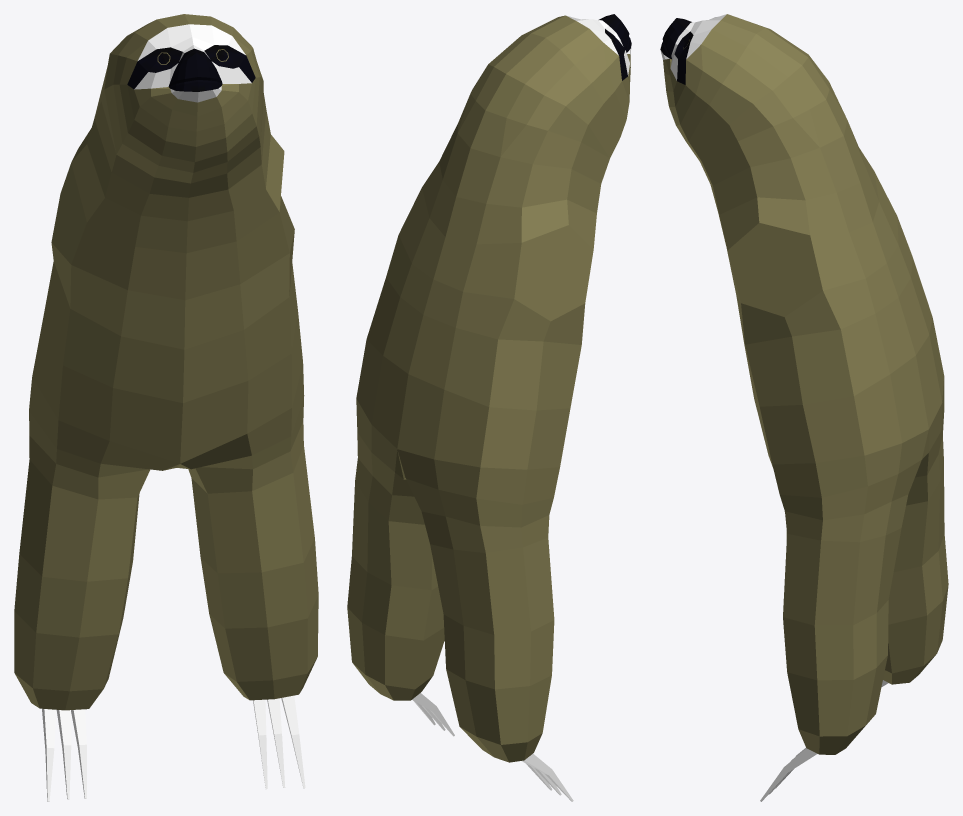
Rendered from osoperesozo.obj.
The picture shows the model from 3 angles, left to right: view 1: azimuth 30°, elevation 25°; view 2: azimuth 150°, elevation 25°; view 3: azimuth 270°, elevation 25°; orthographic projection. The views are drawn at different scales.
Visible parts, largest first — view 1: osoperesozo:polySurface51polySurface45polySurface18; view 2: osoperesozo:polySurface51polySurface45polySurface18; view 3: osoperesozo:polySurface51polySurface45polySurface18.
Boxes of the visible parts, x1=… form: osoperesozo:polySurface51polySurface45polySurface18: x1=14, y1=14, x2=318, y2=801; osoperesozo:polySurface51polySurface45polySurface18: x1=347, y1=14, x2=631, y2=801; osoperesozo:polySurface51polySurface45polySurface18: x1=660, y1=14, x2=948, y2=801.
Size of the model in its own units: 0.1413 by 0.4334 by 0.1569.
Materials: 4 (3 with a texture image).
